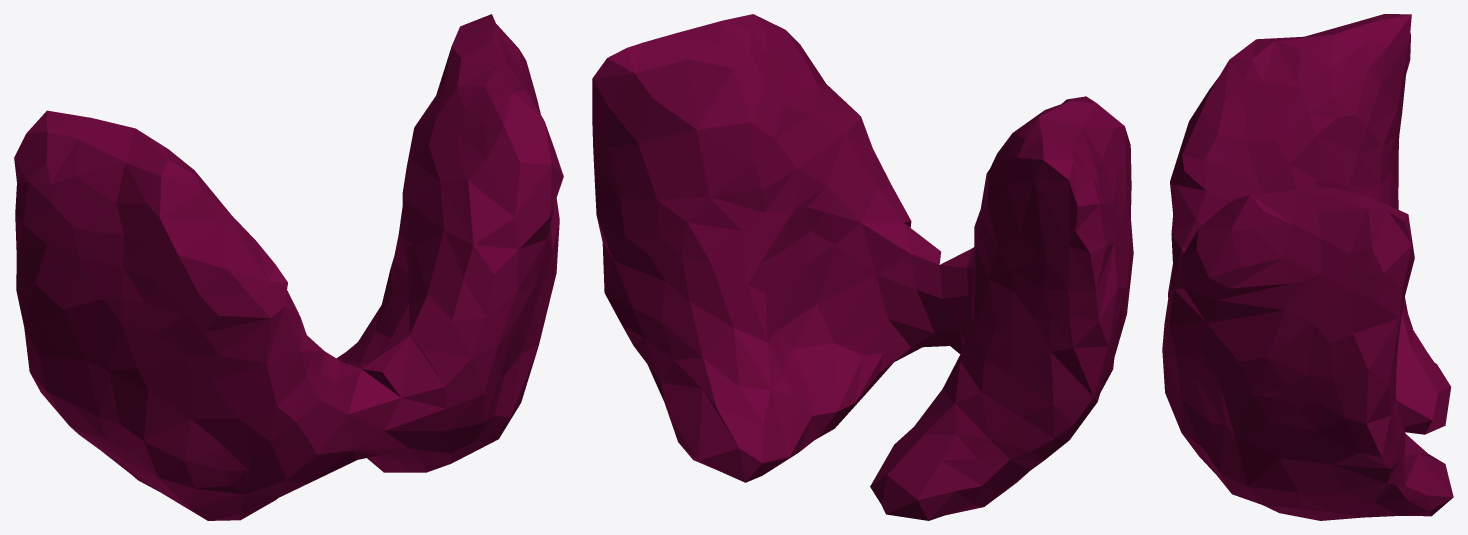
Rendered from 99-VAM-ventral anterior thalamic nucleus, medial part-('0.4980', '0.0000', '0.2667').obj.
3 views of the same model, side by side, from view 1: azimuth 30°, elevation 25°; view 2: azimuth 150°, elevation 25°; view 3: azimuth 270°, elevation 25° (orthographic). The views are drawn at different scales.
Size of the model in its own units: 66.6 by 48.59 by 35.16.
